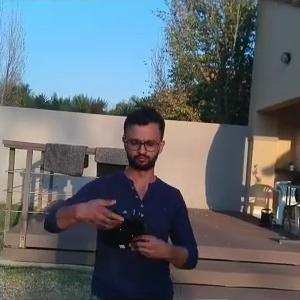follow: (41, 103, 203, 298)
